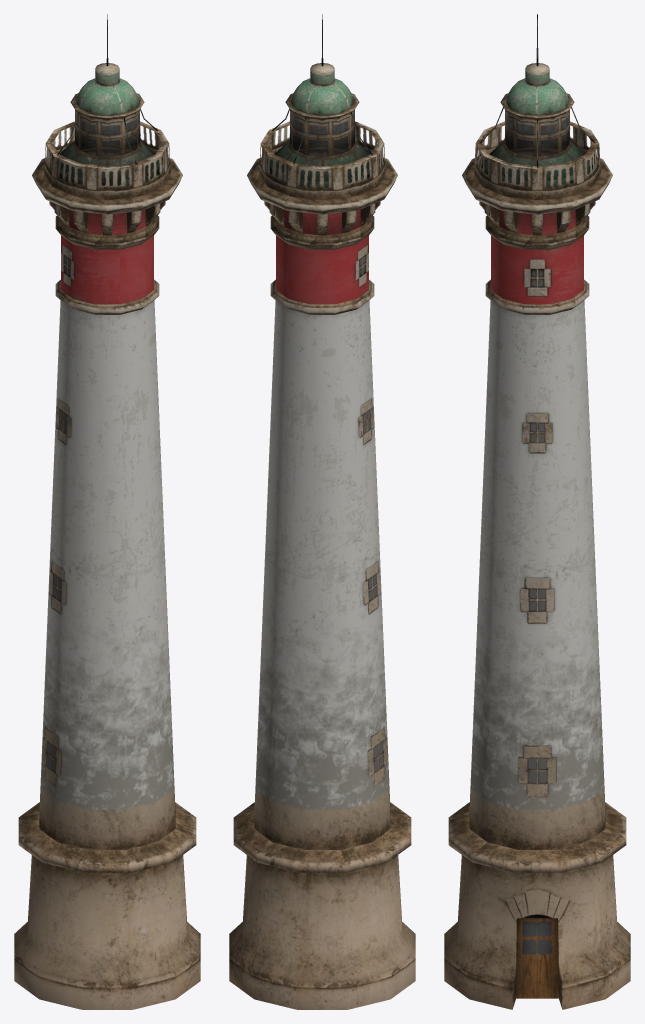
The model's file is faro.glb.
3 views of the same model, side by side, from view 1: azimuth 30°, elevation 25°; view 2: azimuth 150°, elevation 25°; view 3: azimuth 270°, elevation 25° (orthographic).
Visible parts, largest first — view 1: LowPoly; view 2: LowPoly; view 3: LowPoly.
Boxes of the visible parts, x1=… form: LowPoly: x1=14, y1=14, x2=200, y2=1009; LowPoly: x1=229, y1=14, x2=415, y2=1009; LowPoly: x1=444, y1=14, x2=630, y2=1009.
Size of the model in its own units: 0.2897 by 1.64 by 0.2897.
1 material, 1 textured.
